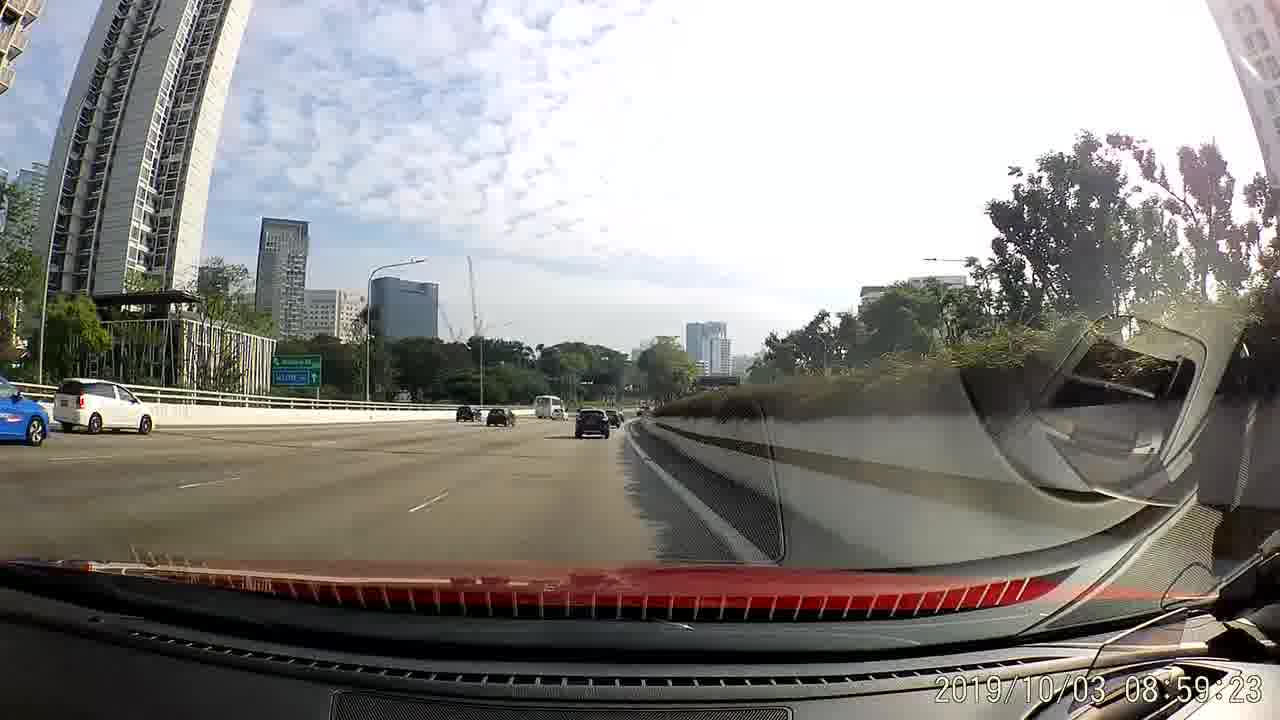bus: (533, 390, 561, 421)
car: (51, 373, 158, 434), (2, 372, 48, 445), (574, 406, 612, 441), (486, 406, 514, 428), (455, 404, 481, 423), (549, 407, 566, 423)
